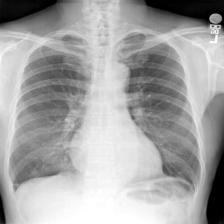normal: (7, 27, 204, 202)
